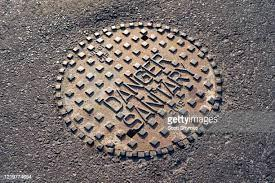closed manhole-not overflowing-: (55, 22, 222, 157)
